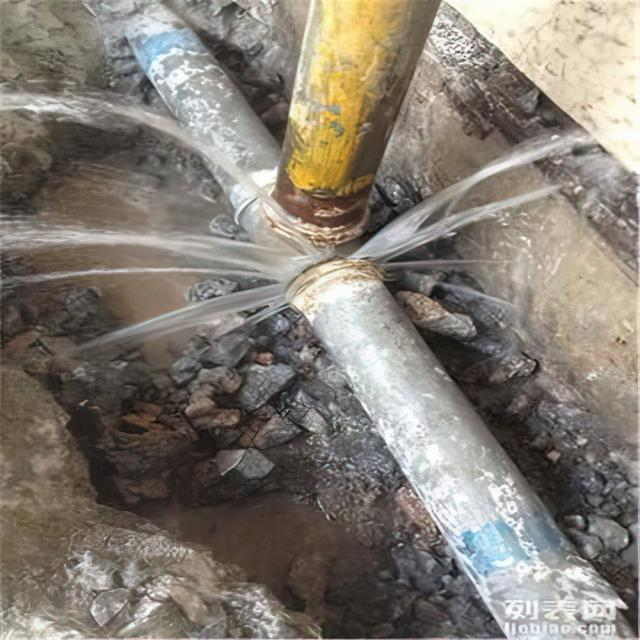leak: (0, 91, 331, 258), (351, 134, 593, 262), (2, 220, 323, 284), (63, 284, 289, 358)
